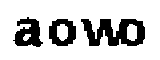a: (10, 15, 43, 51)
o: (43, 17, 79, 48), (123, 16, 148, 51)
w: (79, 17, 123, 53)
